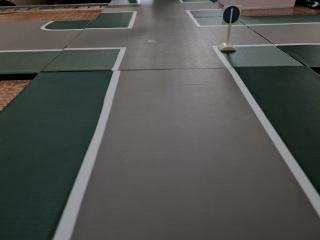straight: (220, 3, 244, 26)
